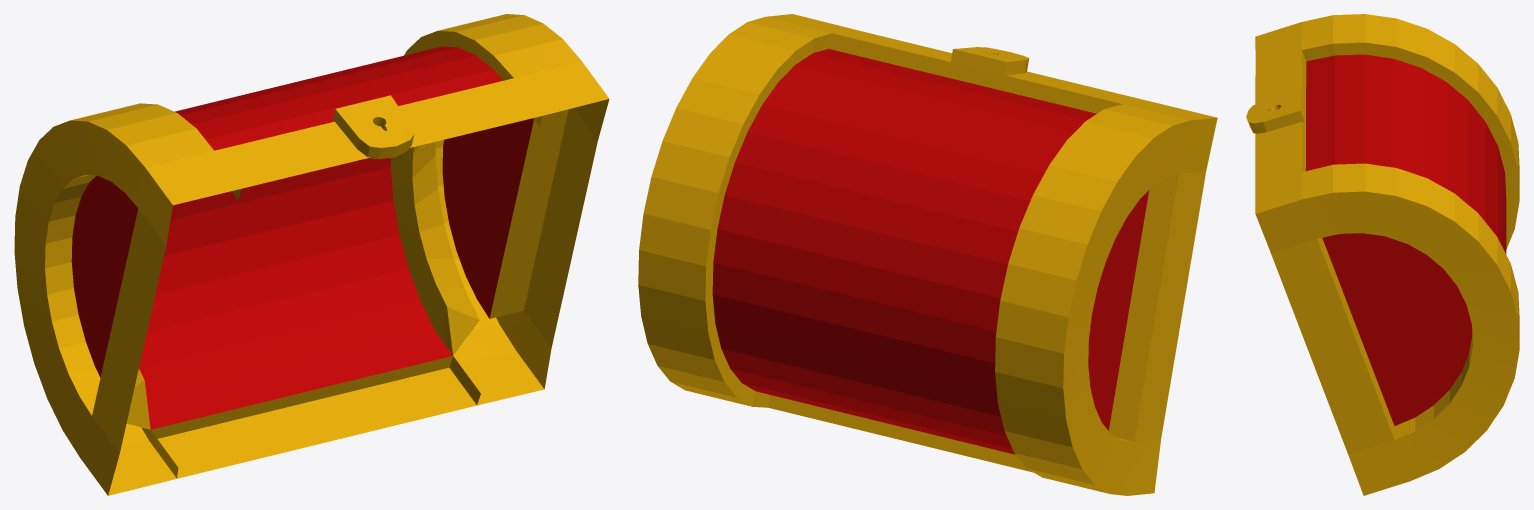
File: top box.fbx
3 renders of one model, left to right at view 1: azimuth 30°, elevation 25°; view 2: azimuth 150°, elevation 25°; view 3: azimuth 270°, elevation 25°, orthographic. The views are drawn at different scales.
Visible parts, largest first — view 1: Cube_In_0; view 2: Cube_In_0; view 3: Cube_In_0.
Boxes of the visible parts, left/top/right/bottom form: Cube_In_0: left=14, top=14, right=609, bottom=495; Cube_In_0: left=638, top=14, right=1217, bottom=495; Cube_In_0: left=1246, top=14, right=1519, bottom=495.
Bounding box in the file's own units: 153 × 123 × 99.54.
